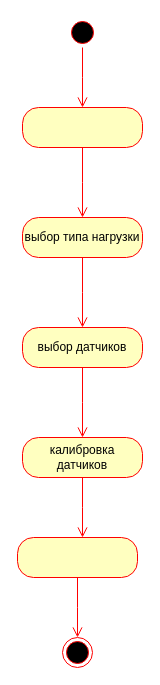
This 160x685 diagram has some shape labels left out. Here are the shapes that lost their labels. From the top down, the centre of each, then its label:
At (82,127): "запись нового пациента".
At (77,557): "просмотр графиков показаний".
